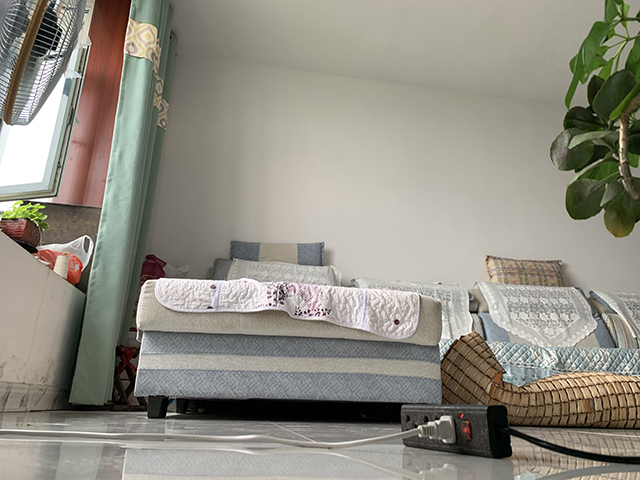curtain: (68, 1, 180, 413)
sofa: (133, 240, 640, 429)
wire: (1, 403, 639, 467)
